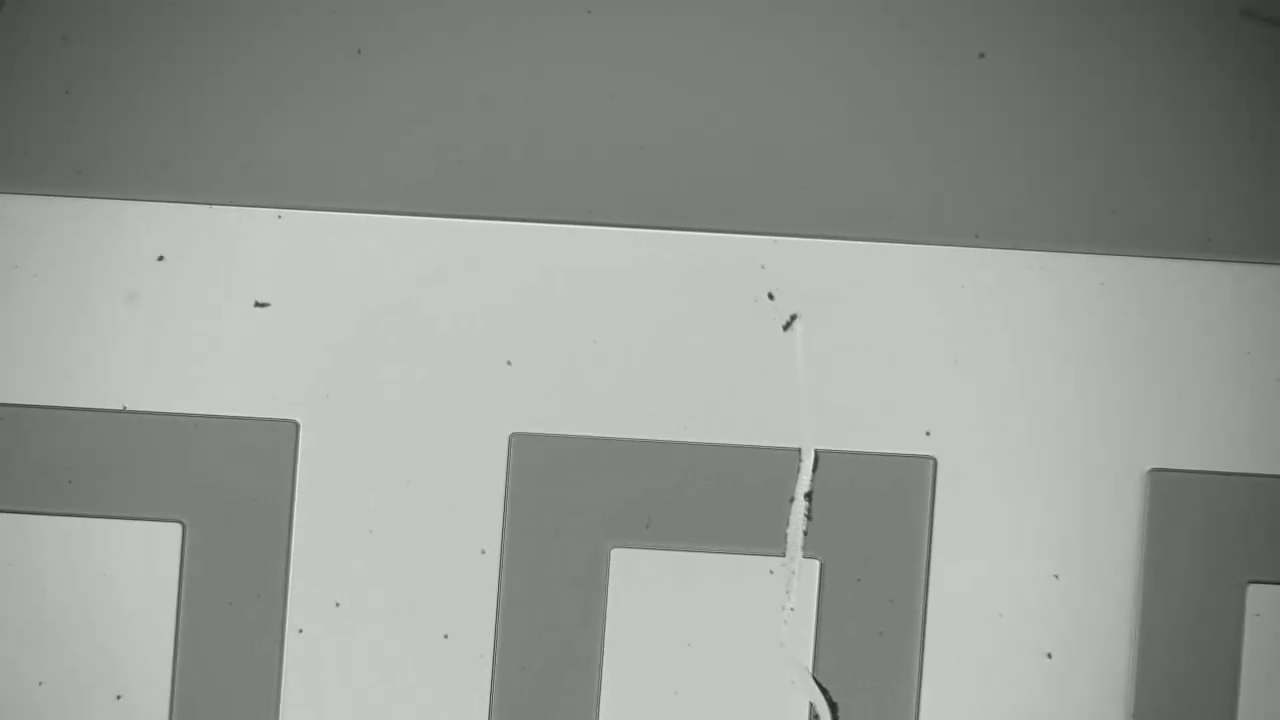Short_circuit: (755, 427, 825, 576)
